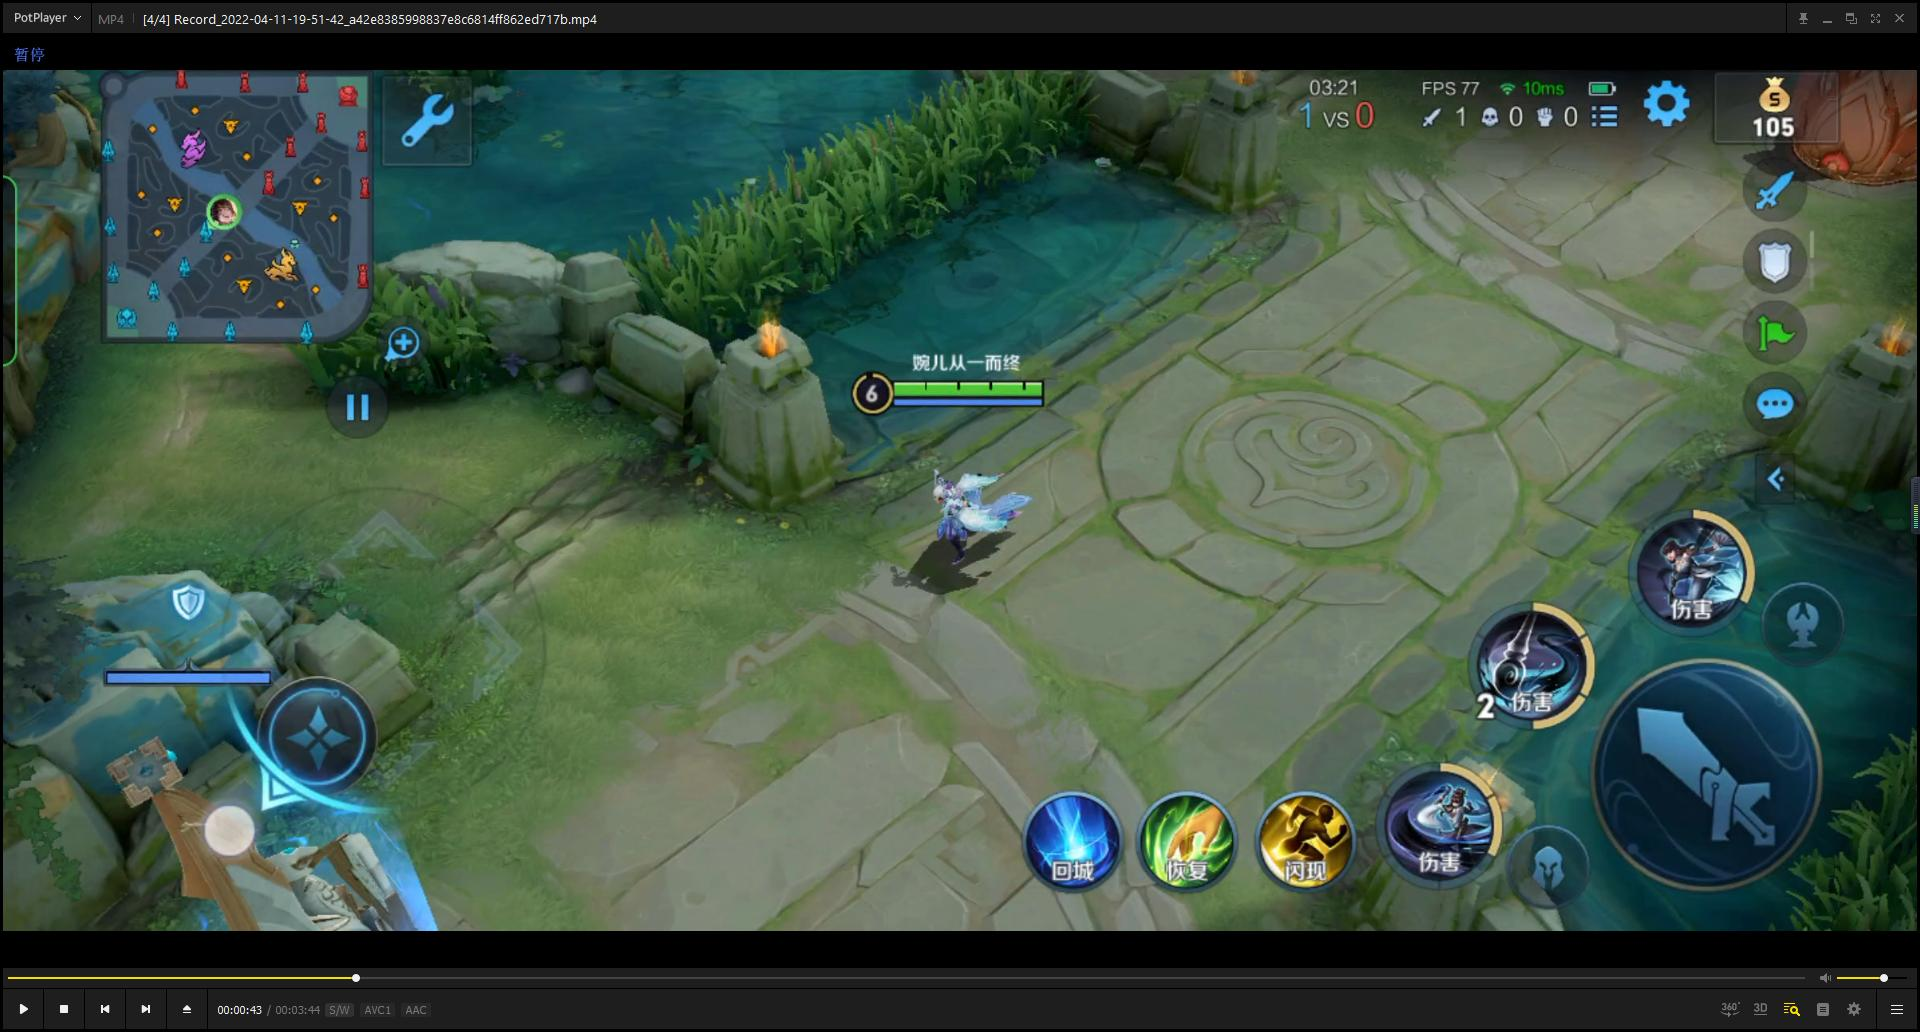Hero: (900, 463, 1045, 569)
Tower: (86, 652, 449, 928), (1762, 69, 1917, 196)
